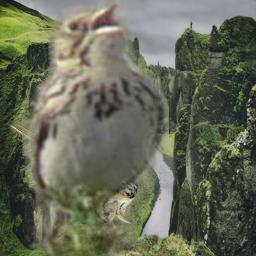Sparrow: (22, 0, 169, 256), (7, 114, 140, 232)
